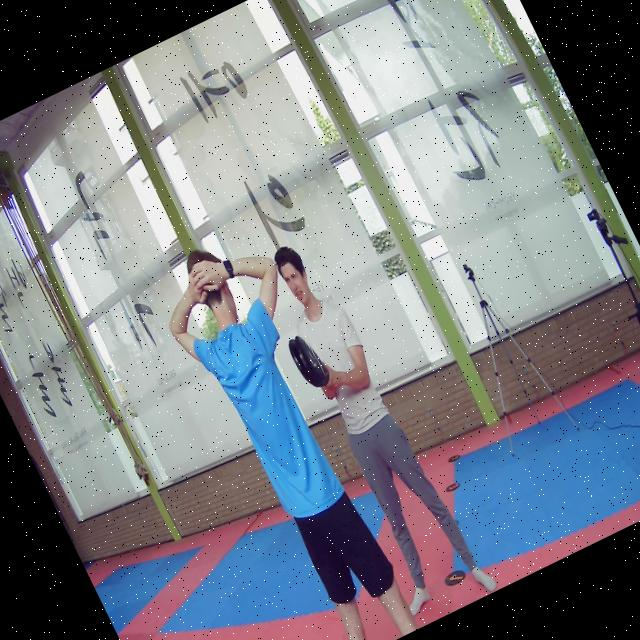paddle: (288, 333, 329, 386)
